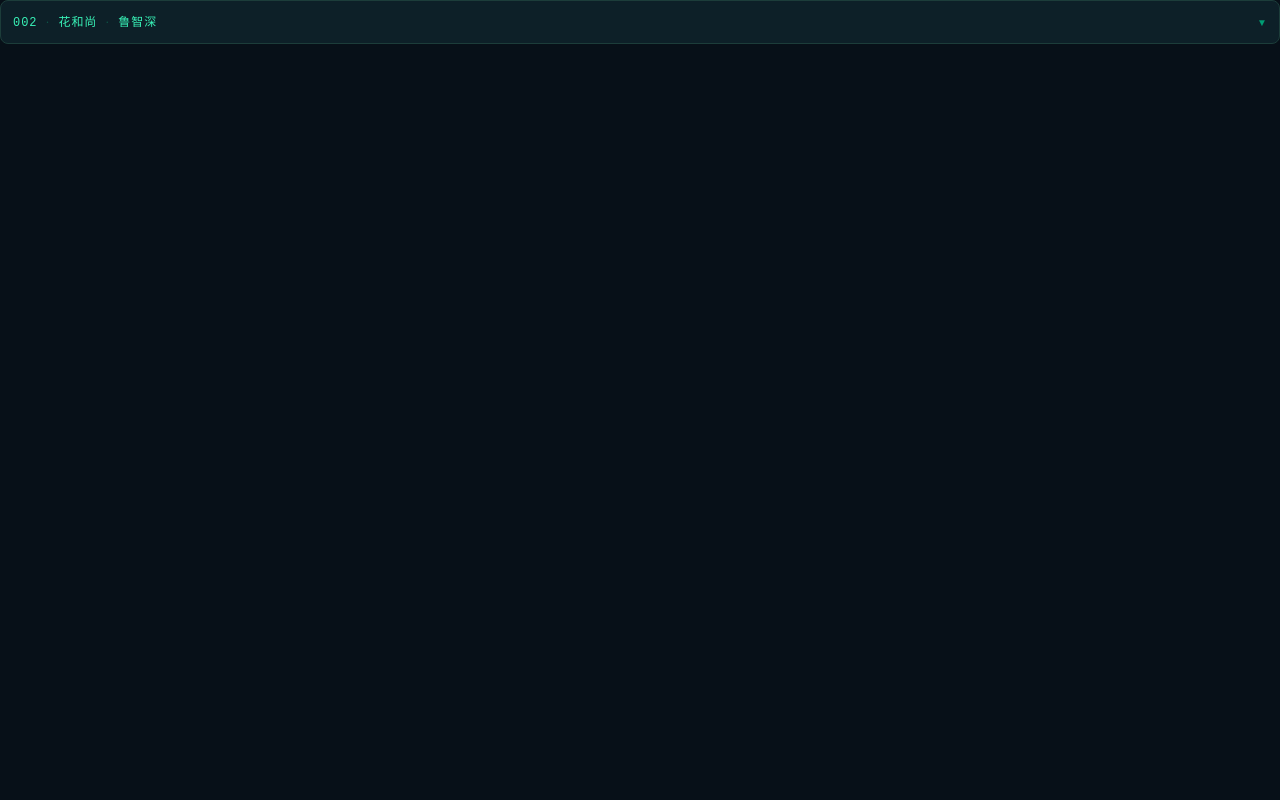
CharacterListbox keyboard interaction › 移动端打开后不会自动聚焦搜索框
Click the button with aria-label "选择卡片" at (78, 22), box [0,0,1279,44]
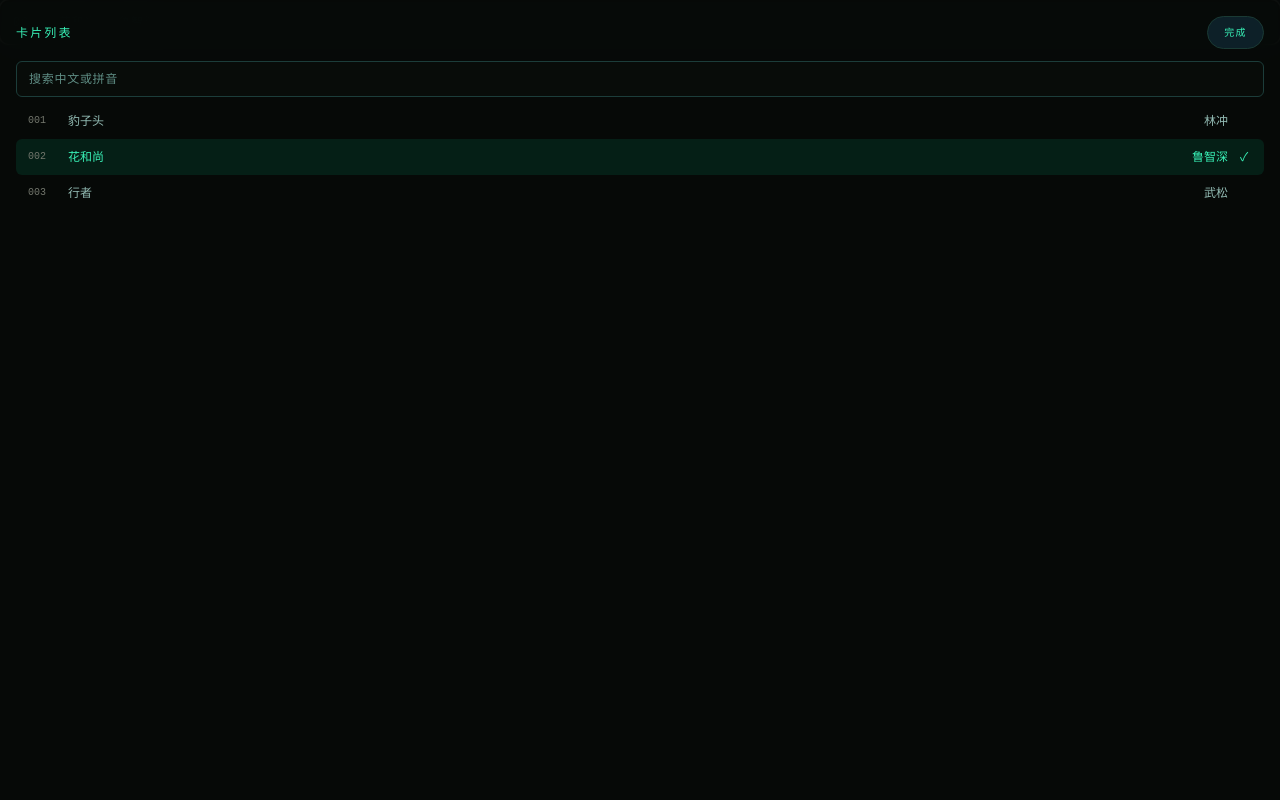
Expected: the list is shown, [16,103,1264,211]
